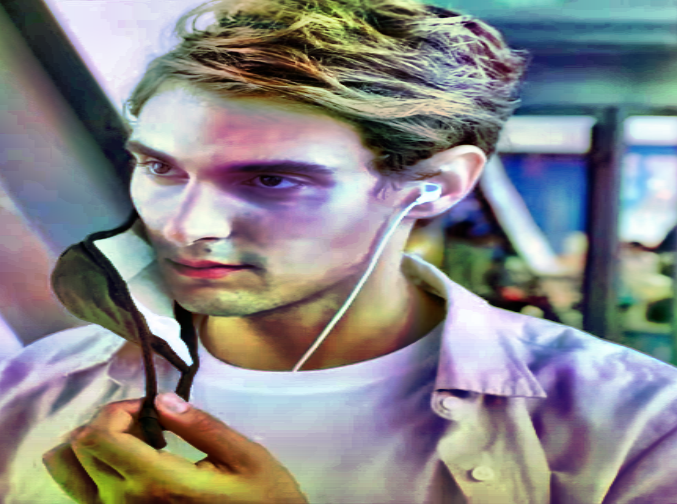mask_weared_incorrect: (47, 2, 508, 377)
